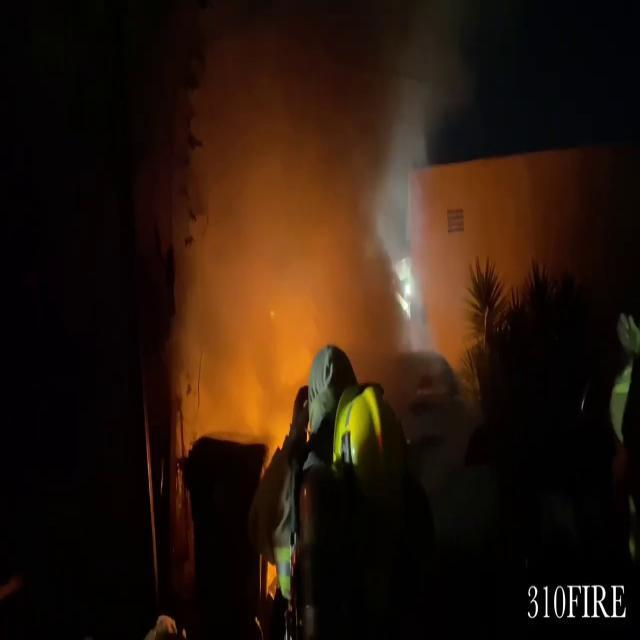Smoke: (146, 2, 371, 450)
